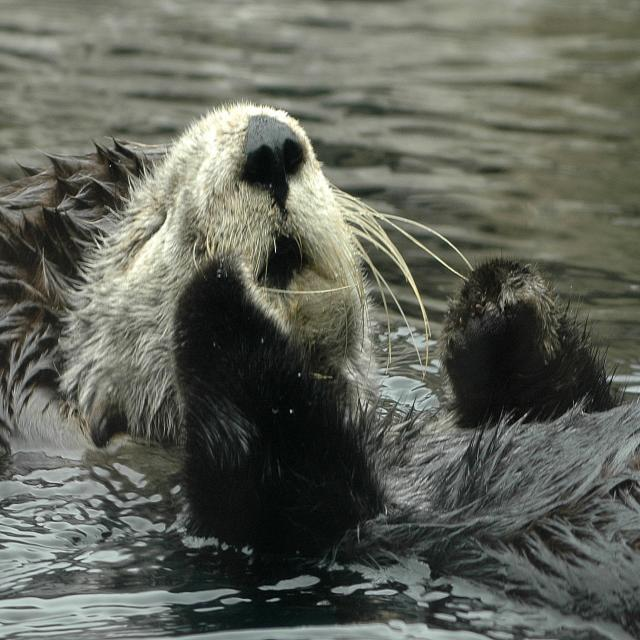otter: (1, 106, 640, 615)
